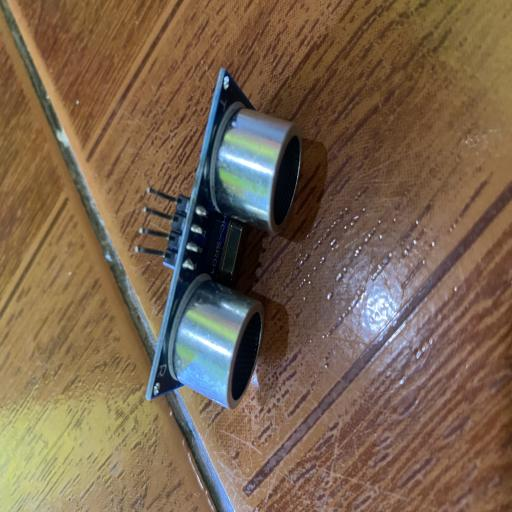Ultrasonic Sensor: (130, 65, 302, 410)
